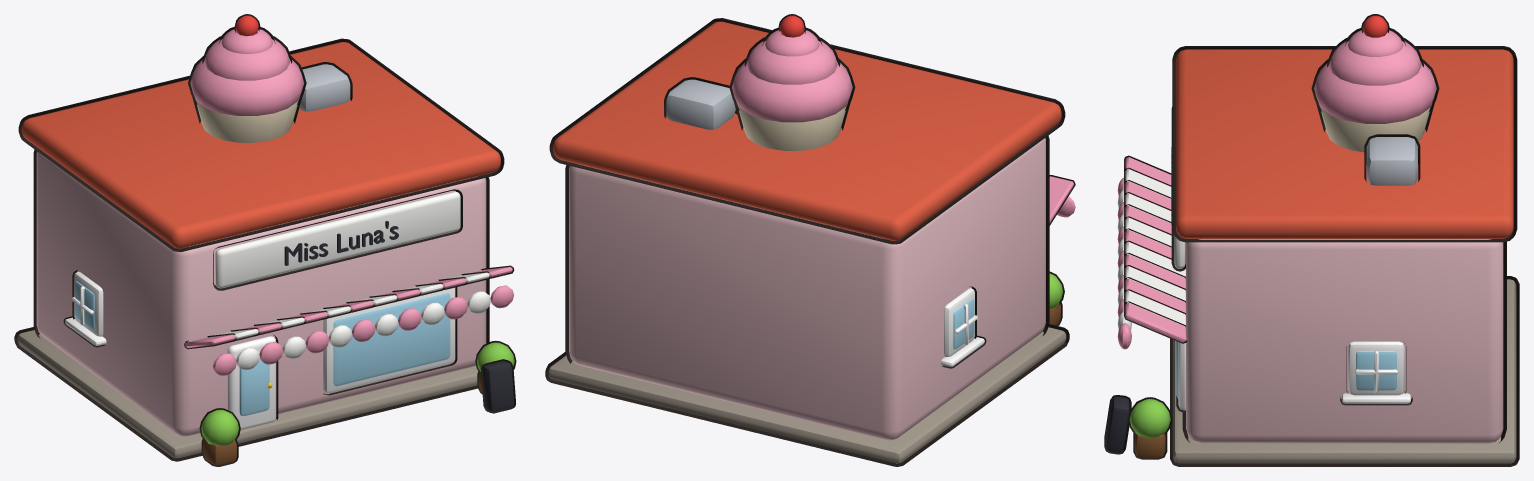
The model's file is Shop_LunaBakery.fbx.
3 views of the same model, side by side, from view 1: azimuth 30°, elevation 25°; view 2: azimuth 150°, elevation 25°; view 3: azimuth 270°, elevation 25° (orthographic). The views are drawn at different scales.
Visible parts, largest first — view 1: BL_Shop_LunaBakery_WallPink, BL_Shop_LunaBakery_RoofRed, BL_Shop_LunaBakery_White, BL_Shop_LunaBakery_Outline, BL_Shop_LunaBakery_Pink, BL_Shop_LunaBakery_StoneDark, BL_Shop_LunaBakery_Window, BL_Shop_LunaBakery_Frame, BL_Shop_LunaBakery_WallCream, BL_Shop_LunaBakery_Black, BL_Shop_LunaBakery_MetalLight, BL_Shop_LunaBakery_Leaf2 (+1 smaller); view 2: BL_Shop_LunaBakery_WallPink, BL_Shop_LunaBakery_RoofRed, BL_Shop_LunaBakery_StoneDark, BL_Shop_LunaBakery_Outline, BL_Shop_LunaBakery_Pink, BL_Shop_LunaBakery_WallCream, BL_Shop_LunaBakery_MetalLight, BL_Shop_LunaBakery_Frame, BL_Shop_LunaBakery_Window; view 3: BL_Shop_LunaBakery_WallPink, BL_Shop_LunaBakery_RoofRed, BL_Shop_LunaBakery_Pink, BL_Shop_LunaBakery_Outline, BL_Shop_LunaBakery_StoneDark, BL_Shop_LunaBakery_White, BL_Shop_LunaBakery_Frame, BL_Shop_LunaBakery_MetalLight, BL_Shop_LunaBakery_WallCream, BL_Shop_LunaBakery_Window, BL_Shop_LunaBakery_Leaf2, BL_Shop_LunaBakery_Black (+2 smaller).
Boxes of the visible parts, x1,y1,x2,y2 form: BL_Shop_LunaBakery_WallPink: [36, 151, 486, 436]; BL_Shop_LunaBakery_RoofRed: [22, 42, 500, 248]; BL_Shop_LunaBakery_White: [215, 191, 490, 370]; BL_Shop_LunaBakery_Outline: [14, 14, 516, 466]; BL_Shop_LunaBakery_Pink: [185, 29, 513, 375]; BL_Shop_LunaBakery_StoneDark: [17, 330, 478, 458]; BL_Shop_LunaBakery_Window: [75, 281, 450, 416]; BL_Shop_LunaBakery_Frame: [65, 271, 455, 429]; BL_Shop_LunaBakery_WallCream: [195, 97, 299, 142]; BL_Shop_LunaBakery_Black: [284, 221, 514, 411]; BL_Shop_LunaBakery_MetalLight: [299, 64, 350, 111]; BL_Shop_LunaBakery_Leaf2: [201, 342, 514, 445]; BL_Shop_LunaBakery_WallPink: [569, 138, 1045, 440]; BL_Shop_LunaBakery_RoofRed: [553, 21, 1061, 240]; BL_Shop_LunaBakery_StoneDark: [548, 327, 1066, 463]; BL_Shop_LunaBakery_Outline: [545, 14, 1075, 466]; BL_Shop_LunaBakery_Pink: [732, 30, 1075, 222]; BL_Shop_LunaBakery_WallCream: [736, 102, 847, 150]; BL_Shop_LunaBakery_MetalLight: [666, 79, 735, 129]; BL_Shop_LunaBakery_Frame: [940, 288, 984, 366]; BL_Shop_LunaBakery_Window: [953, 298, 974, 349]; BL_Shop_LunaBakery_WallPink: [1186, 239, 1503, 443]; BL_Shop_LunaBakery_RoofRed: [1176, 49, 1513, 238]; BL_Shop_LunaBakery_Pink: [1117, 30, 1436, 349]; BL_Shop_LunaBakery_Outline: [1104, 14, 1519, 466]; BL_Shop_LunaBakery_StoneDark: [1173, 279, 1516, 463]; BL_Shop_LunaBakery_White: [1117, 169, 1185, 329]; BL_Shop_LunaBakery_Frame: [1178, 341, 1410, 410]; BL_Shop_LunaBakery_MetalLight: [1366, 137, 1417, 185]; BL_Shop_LunaBakery_WallCream: [1319, 104, 1431, 152]; BL_Shop_LunaBakery_Window: [1176, 341, 1396, 398]; BL_Shop_LunaBakery_Leaf2: [1130, 399, 1170, 438]; BL_Shop_LunaBakery_Black: [1106, 147, 1172, 452].
Bounding box in the file's own units: 8.24 × 7.9 × 8.12.
